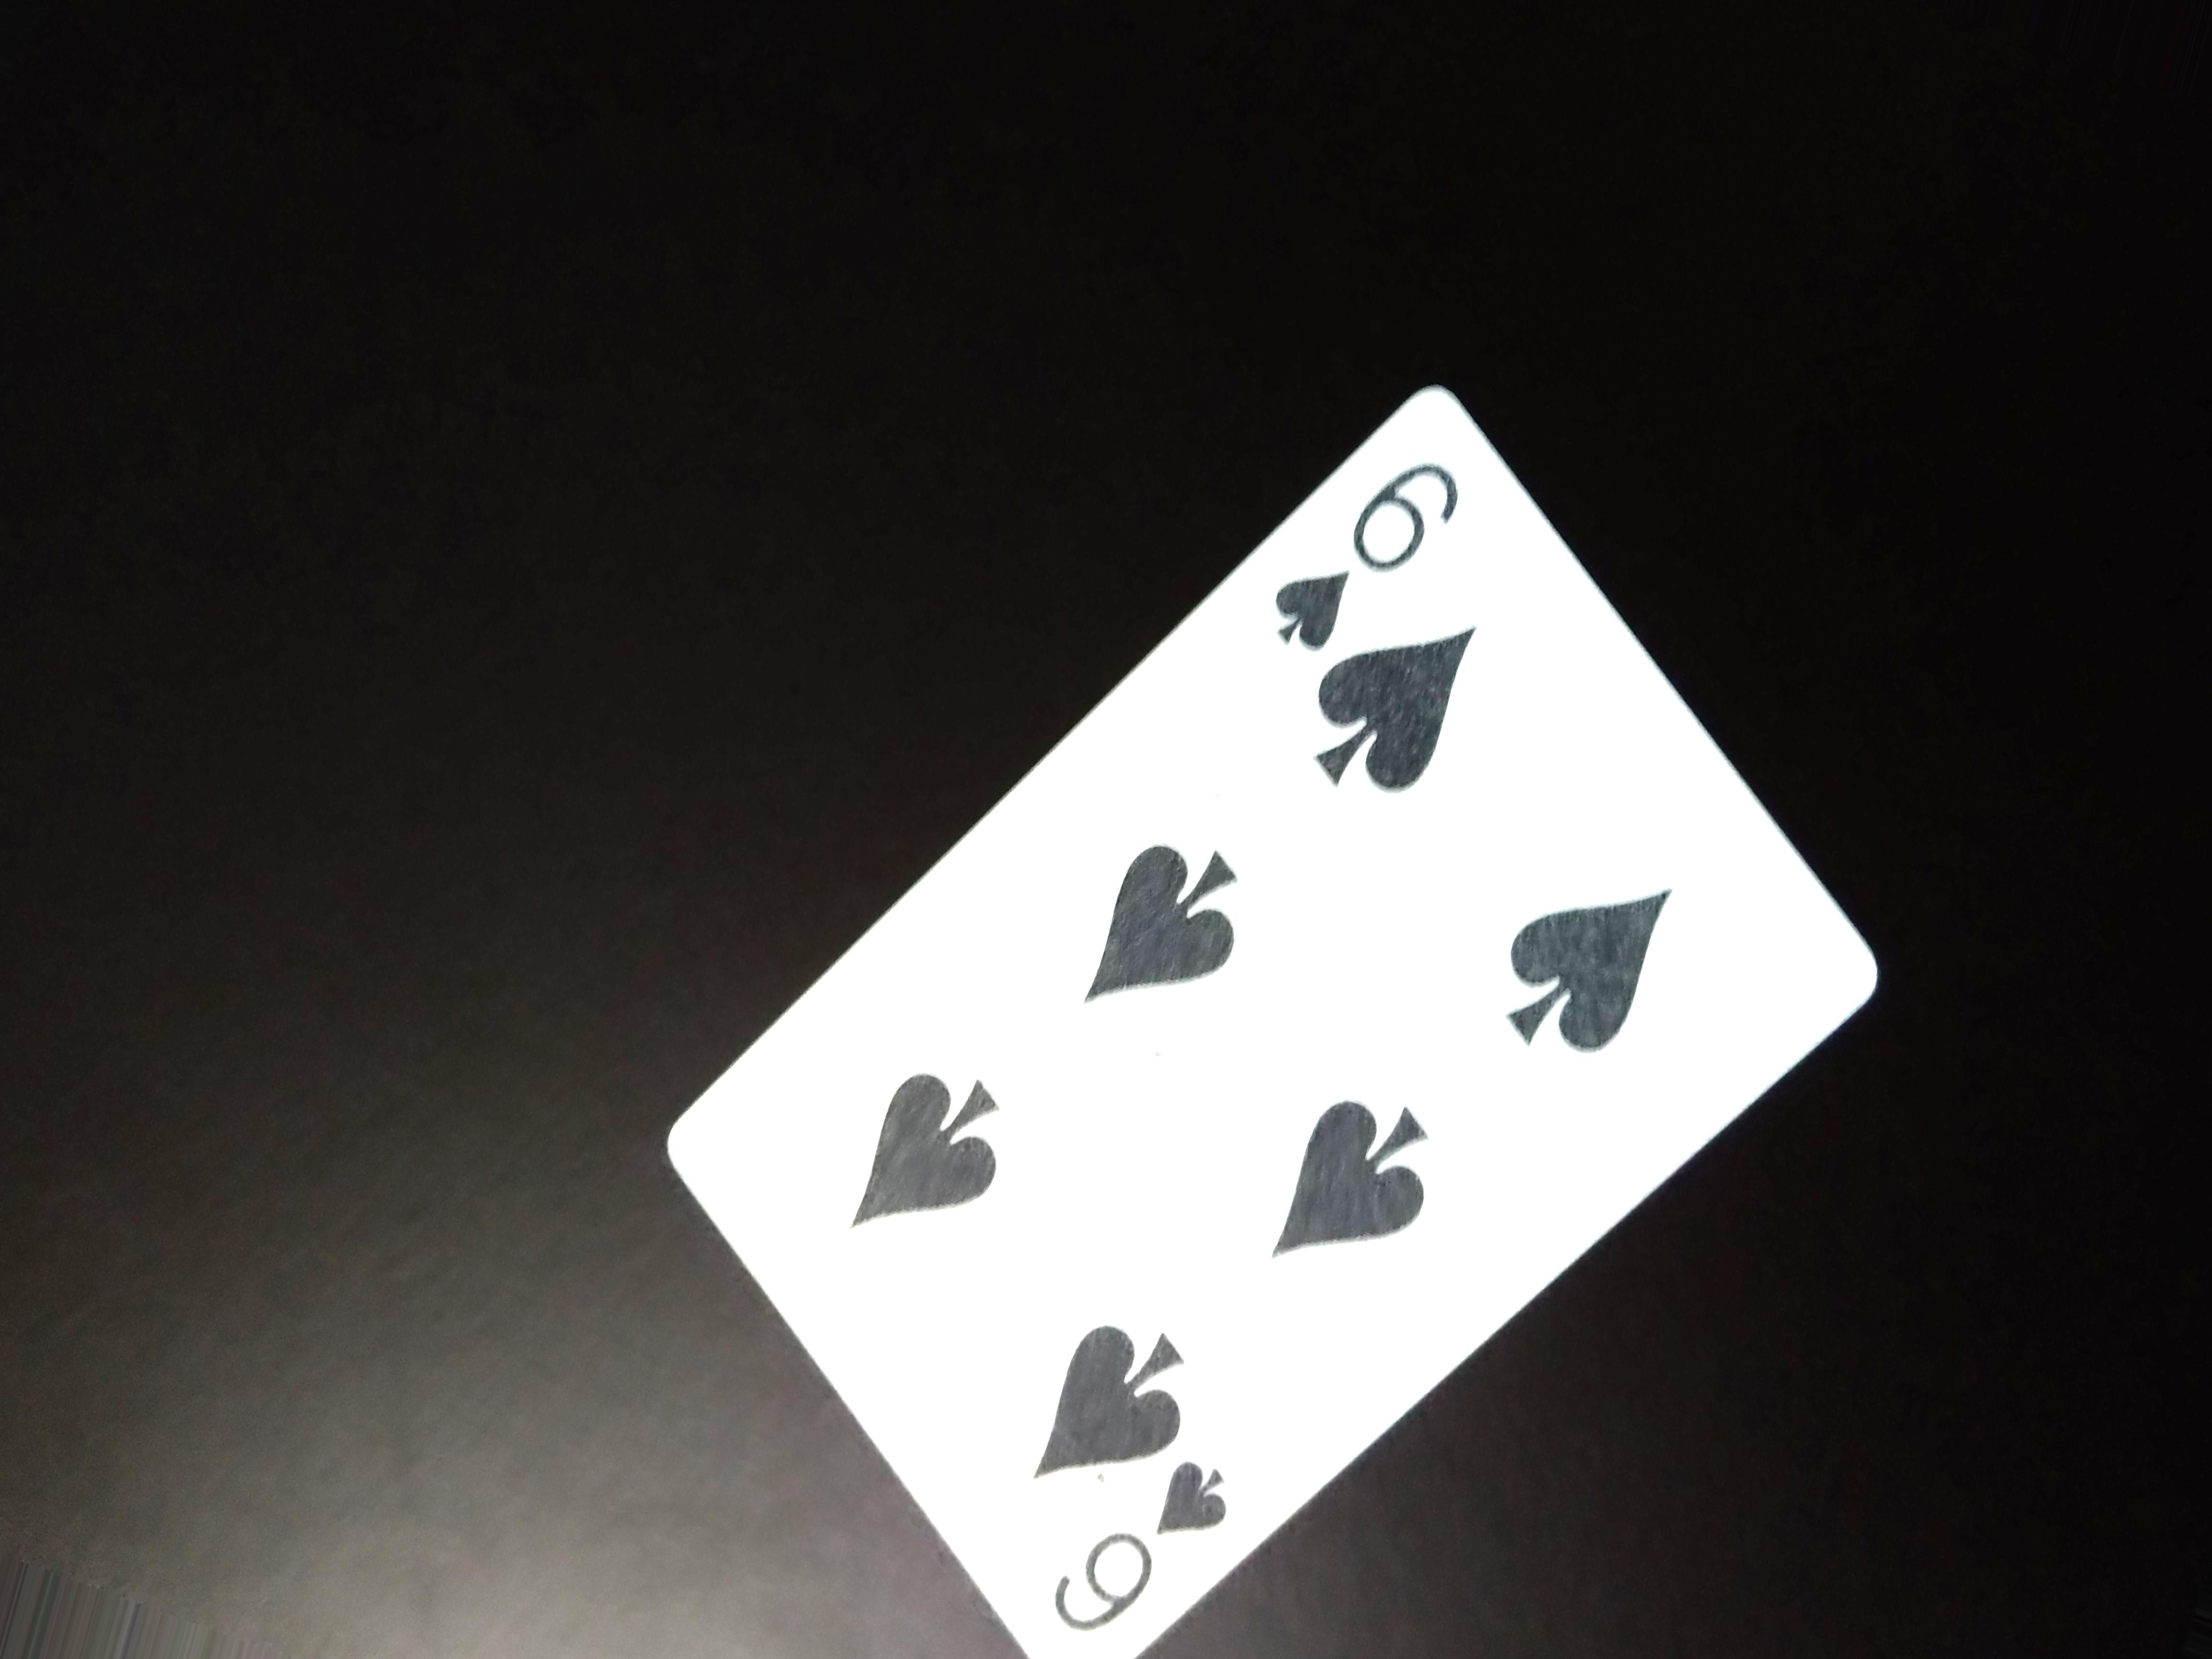6S: (1057, 1455, 1240, 1643)
